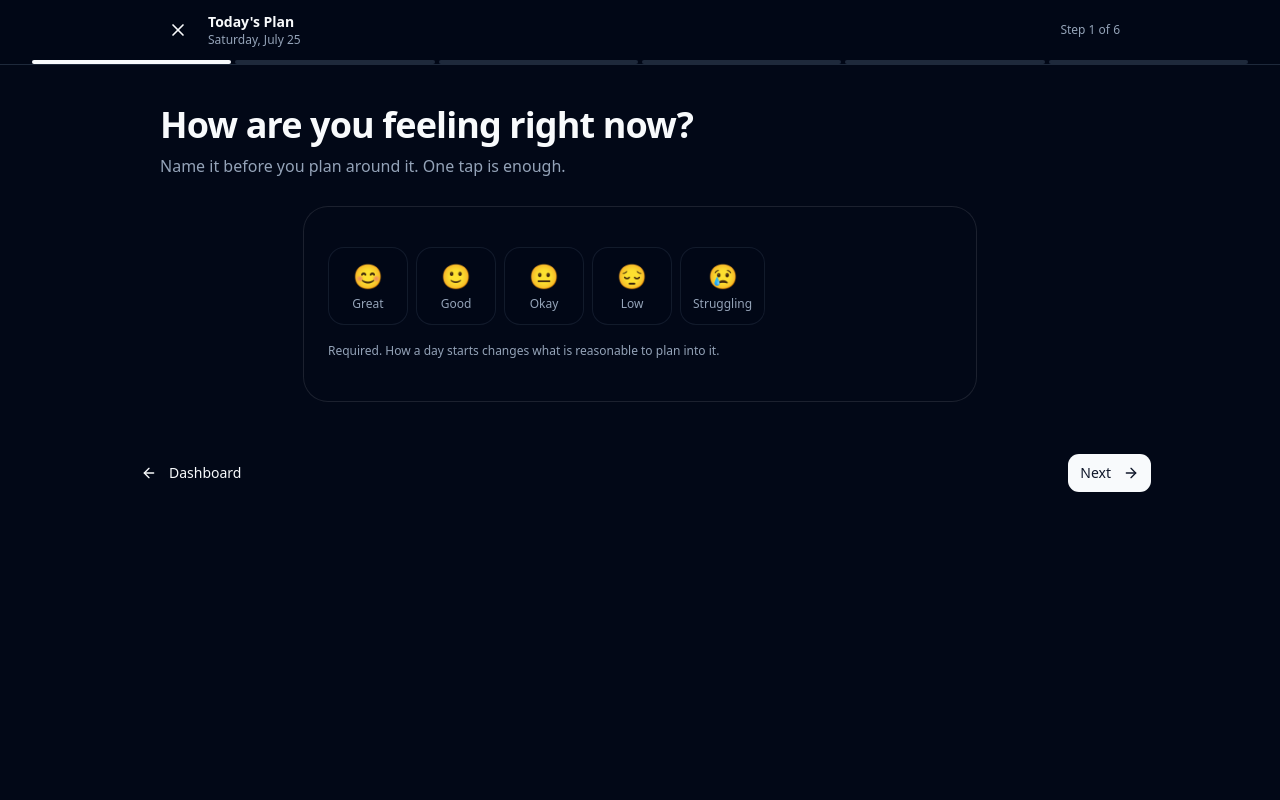
Test case: TodayPlanner › says nothing about an outcome that does not exist yet
Click the button "🙂 good" at (456, 286), box [416,247,496,325]
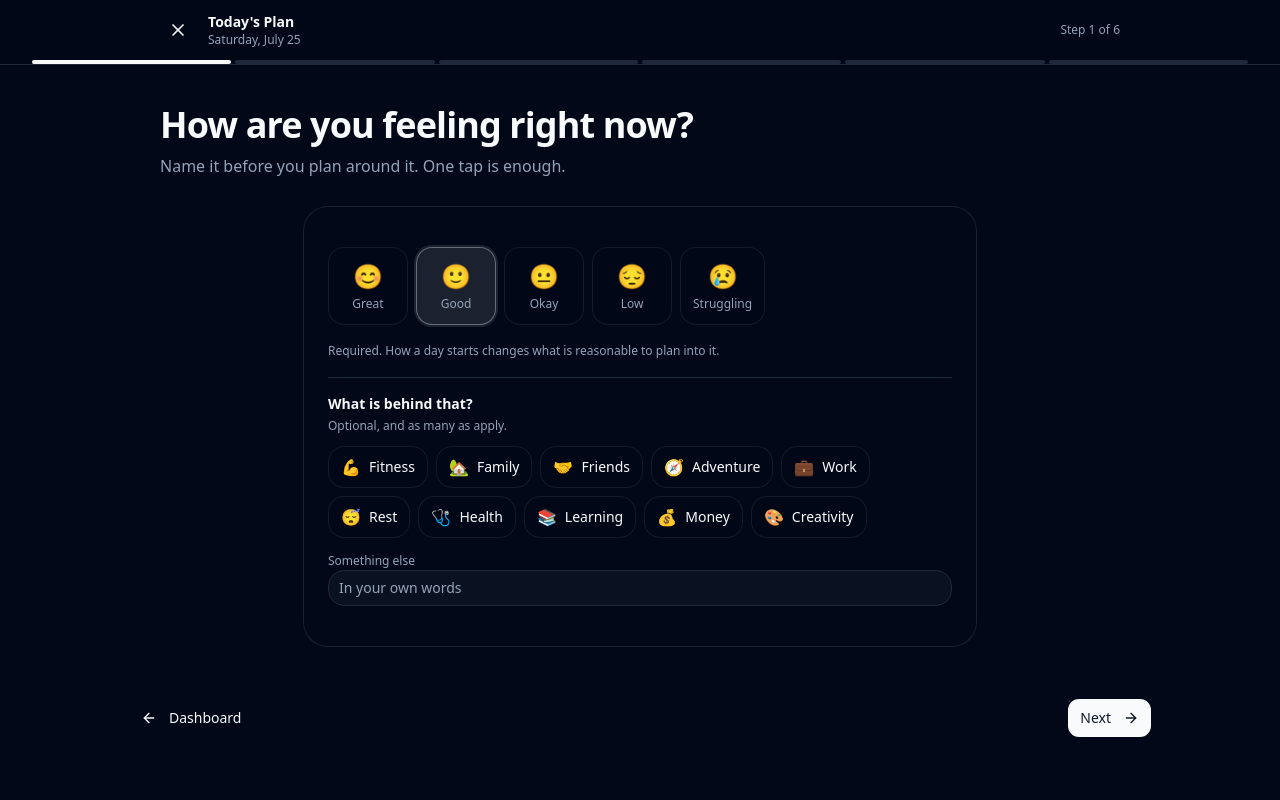
Click the button "Next" at (1110, 718), box [1067,698,1152,738]
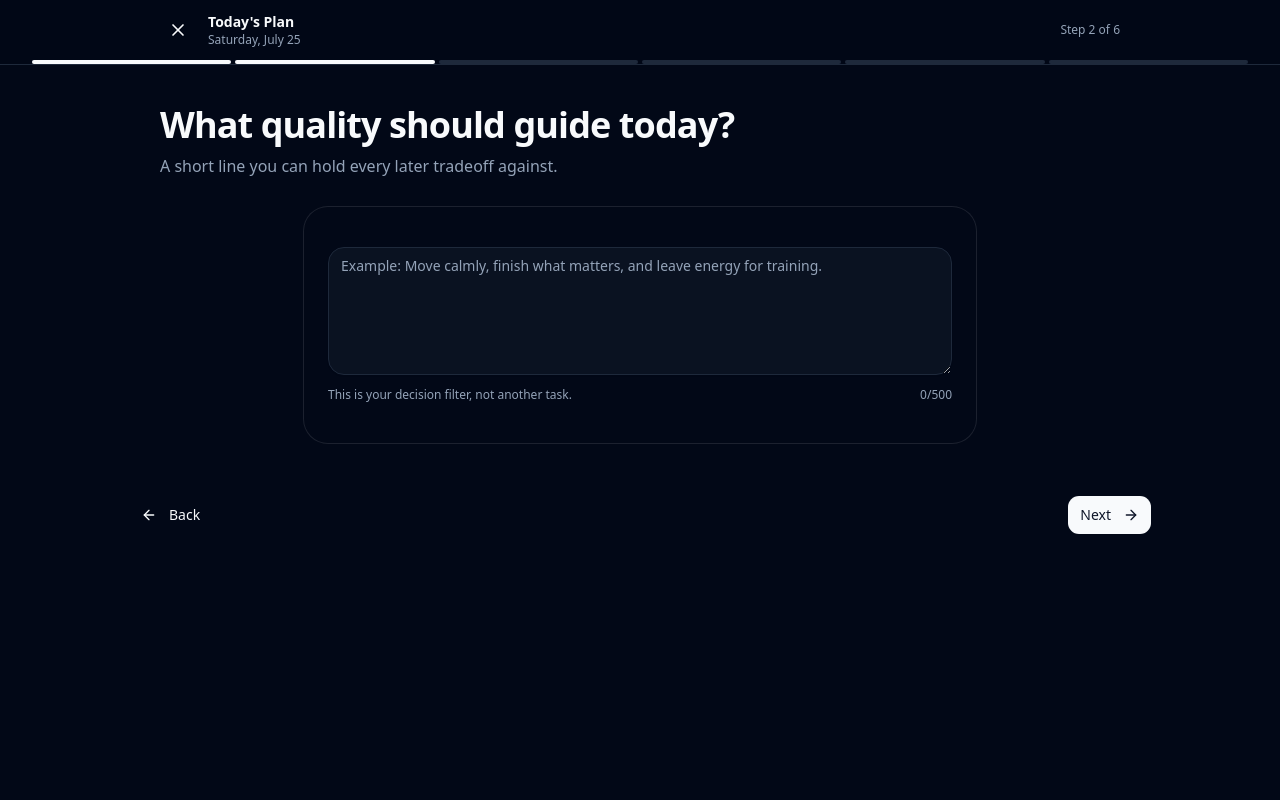
Click the button "Next" at (1110, 515), box [1067,495,1152,535]
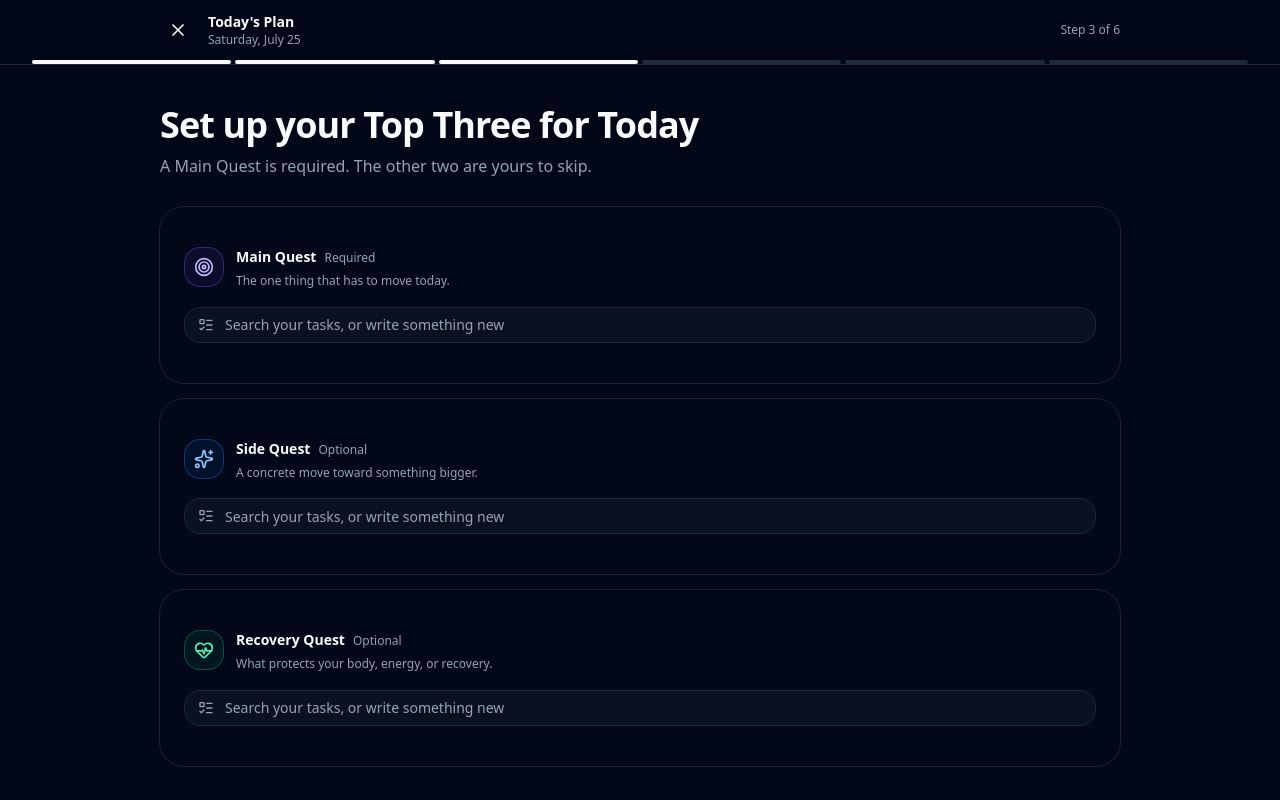
expect the text "Not saved as a task" is not shown: met
Type "Ship the fix" into the dropdown named "Main Quest outcome" at (640, 324), box [184,306,1096,342]
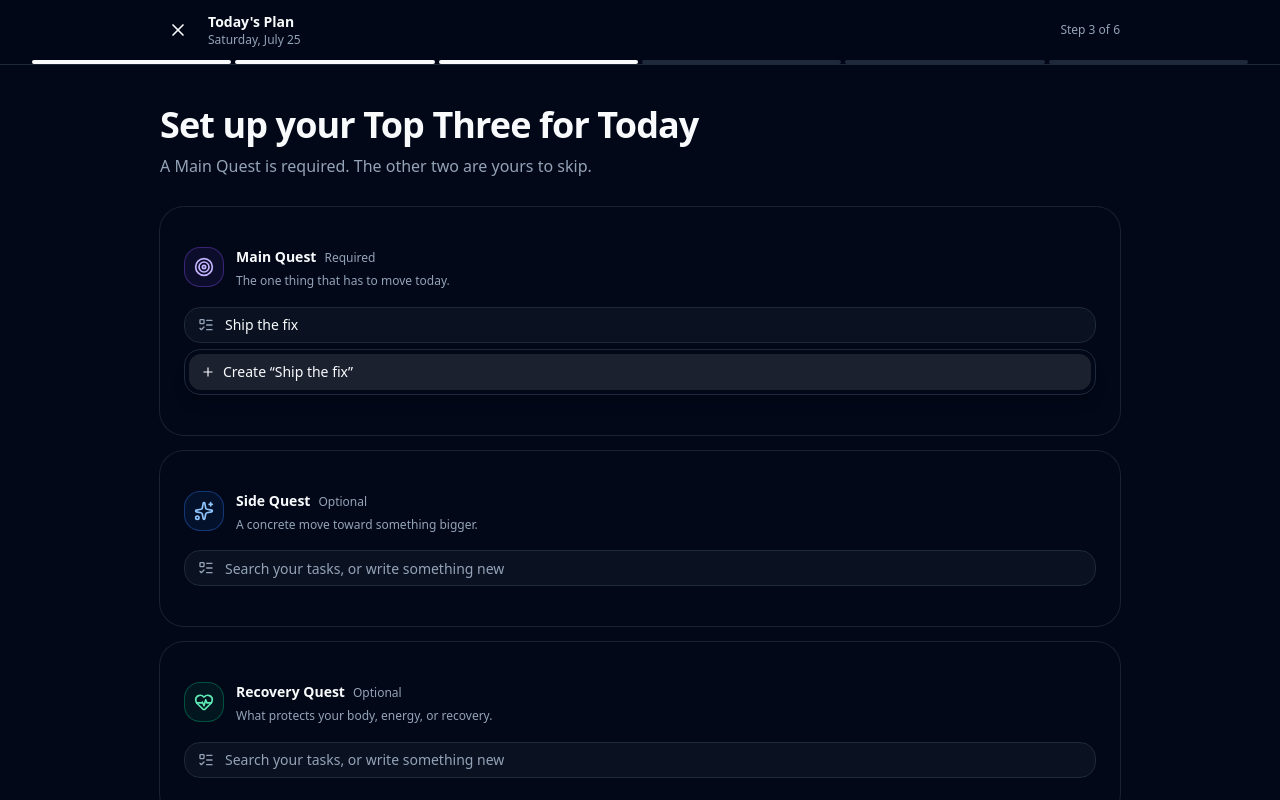
expect the text "Not saved as a task" is shown: met, box [184,368,292,384]
expect the field named "Main Quest block length in minutes" is shown: met, box [1004,358,1068,394]
